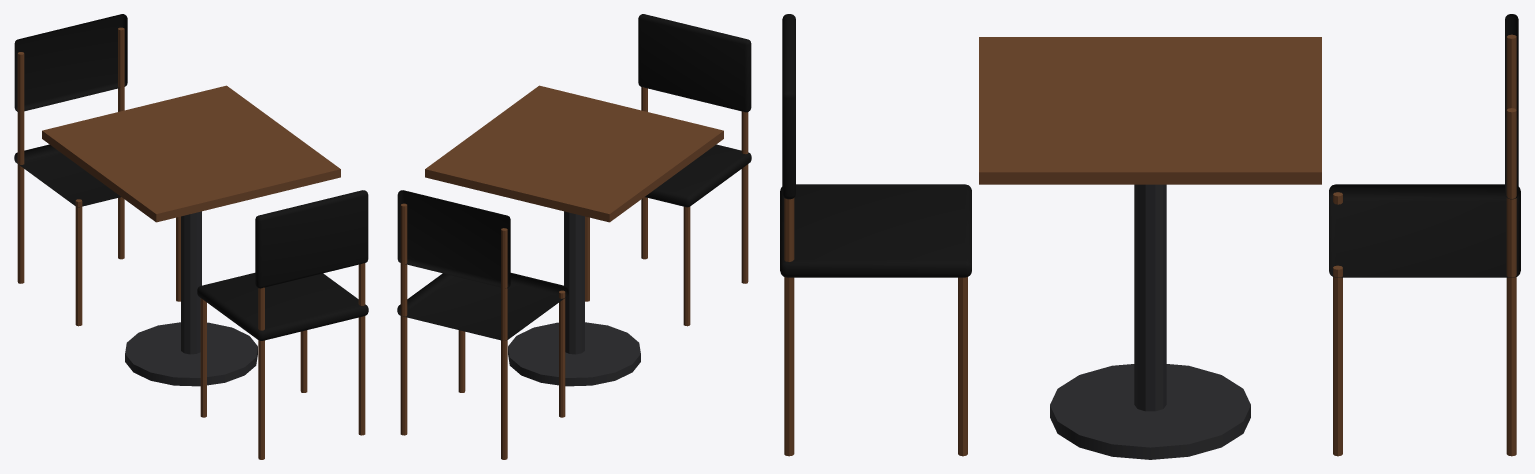
Rendered from hospitality.dining.table_2.glb.
3 views of the same model, side by side, from view 1: azimuth 30°, elevation 25°; view 2: azimuth 150°, elevation 25°; view 3: azimuth 270°, elevation 25° (orthographic). The views are drawn at different scales.
Visible parts, largest first — view 1: chairs__leather_black, table__hardwood, table__cast_iron, chairs__hardwood; view 2: chairs__leather_black, table__hardwood, table__cast_iron, chairs__hardwood; view 3: table__hardwood, chairs__leather_black, table__cast_iron, chairs__hardwood.
Part boxes in pixels (<box>): chairs__leather_black: <box>14,14,368,340</box>; table__hardwood: <box>42,85,340,222</box>; table__cast_iron: <box>125,211,257,386</box>; chairs__hardwood: <box>17,27,365,459</box>; chairs__leather_black: <box>397,14,751,340</box>; table__hardwood: <box>425,85,723,222</box>; table__cast_iron: <box>508,211,640,386</box>; chairs__hardwood: <box>400,87,748,459</box>; table__hardwood: <box>979,37,1321,184</box>; chairs__leather_black: <box>780,14,1520,277</box>; table__cast_iron: <box>1050,184,1250,459</box>; chairs__hardwood: <box>784,34,1516,456</box>.
Size of the model in its own units: 0.7 by 0.88 by 1.62.
